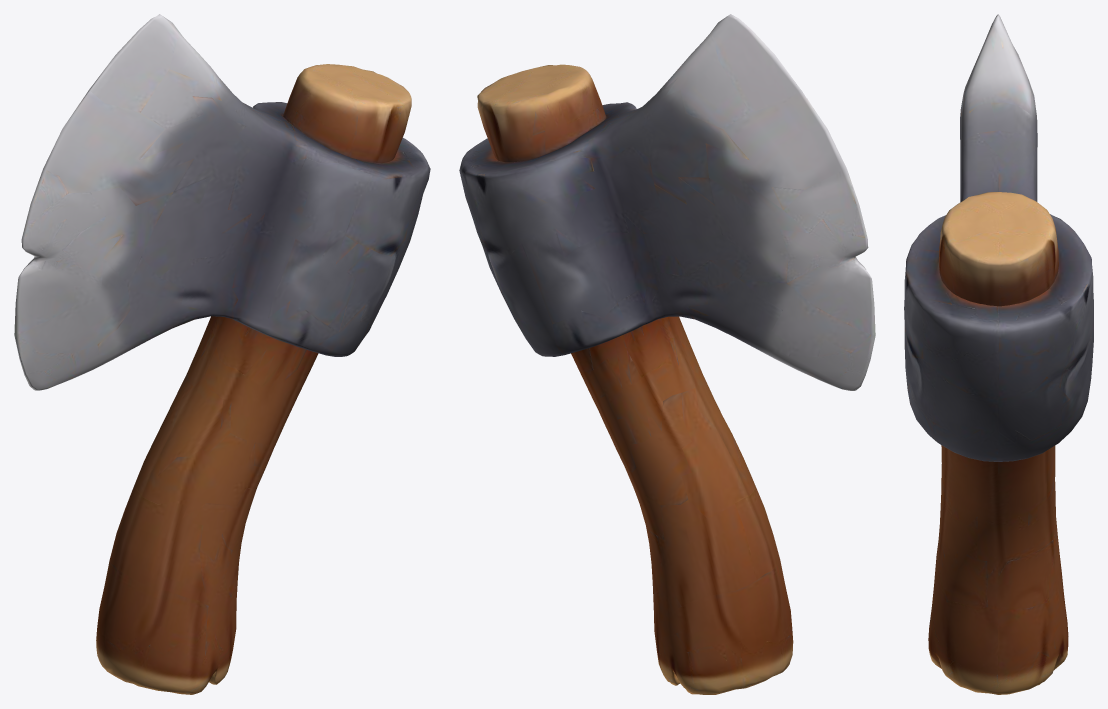
The model's file is axe.glb.
The picture shows the model from 3 angles, left to right: view 1: azimuth 30°, elevation 25°; view 2: azimuth 150°, elevation 25°; view 3: azimuth 270°, elevation 25°; orthographic projection.
Parts seen in each view (by area): view 1: model; view 2: model; view 3: model.
Part boxes in pixels (x1=…): model: x1=14, y1=14, x2=430, y2=694; model: x1=459, y1=14, x2=875, y2=694; model: x1=904, y1=14, x2=1093, y2=694.
Size of the model in its own units: 0.6309 by 0.998 by 0.2627.
Materials: 1 (1 with a texture image).
